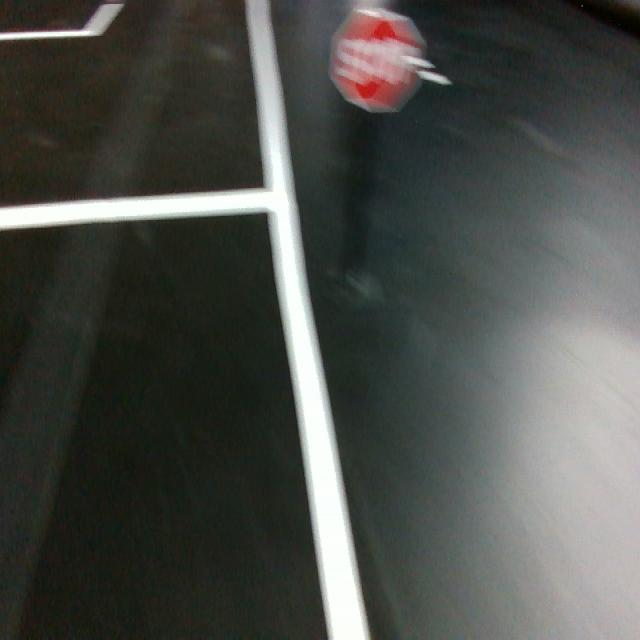stop-sign: (327, 9, 427, 114)
